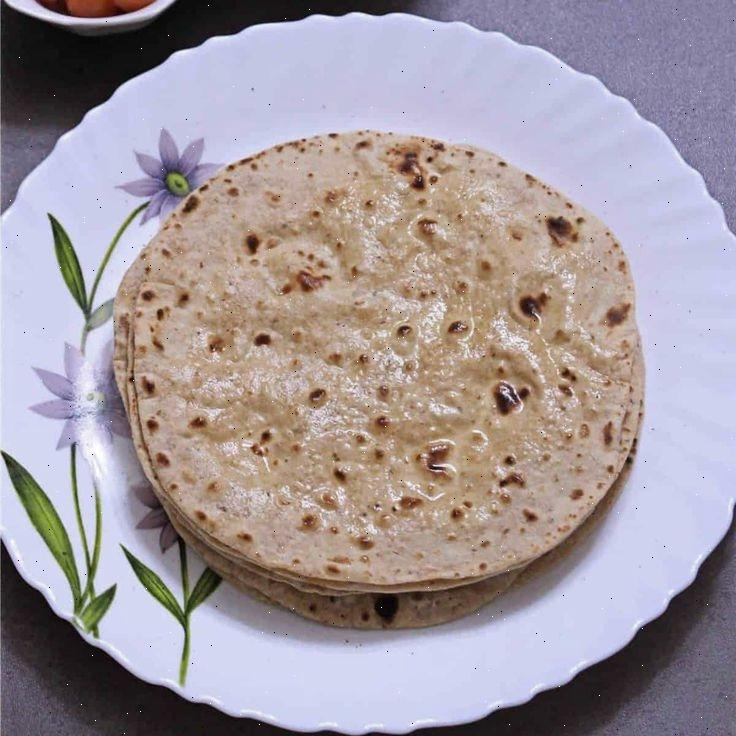roti phulka: (111, 129, 644, 630)
